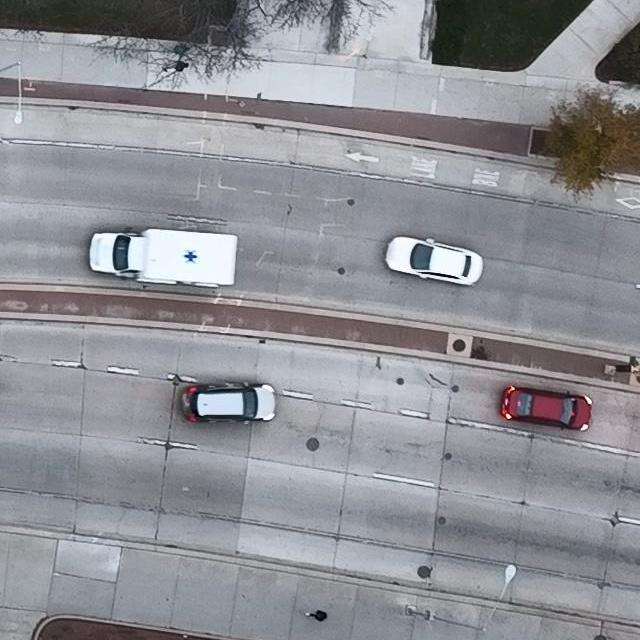car: (89, 226, 239, 286), (385, 237, 483, 287), (501, 384, 592, 430), (179, 380, 276, 423)
